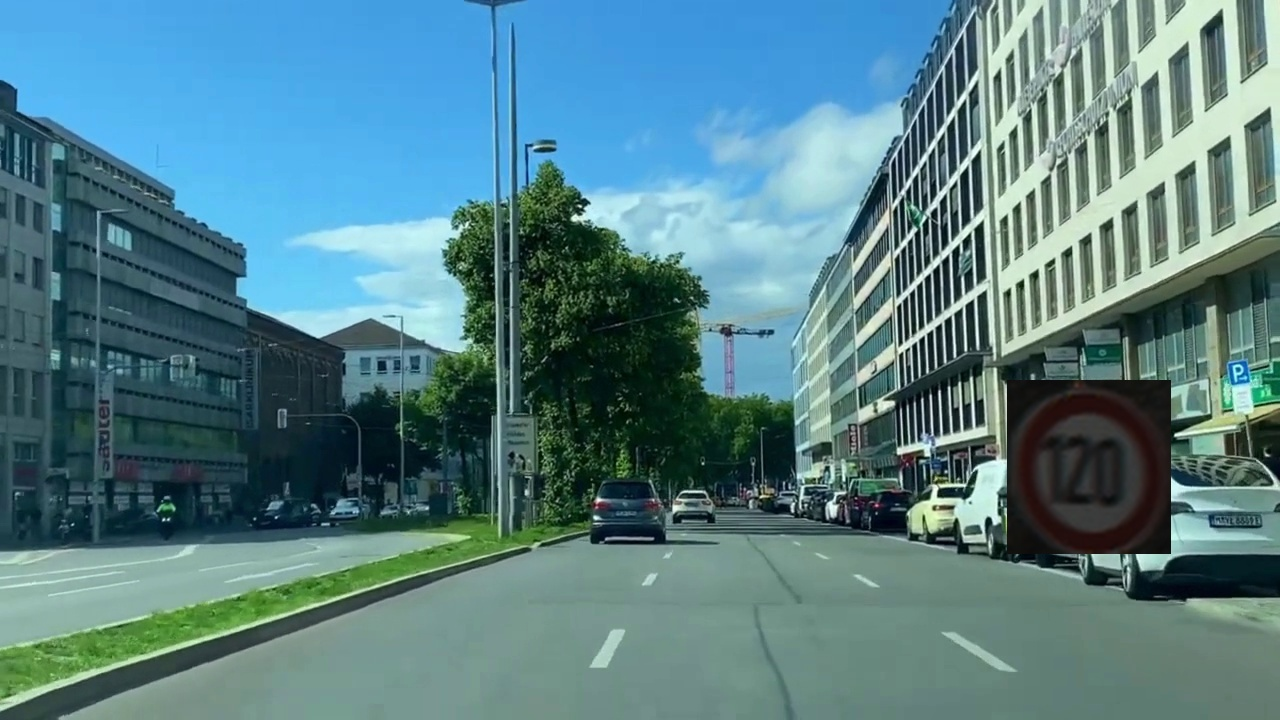Speed 120: (1007, 380, 1171, 554)
